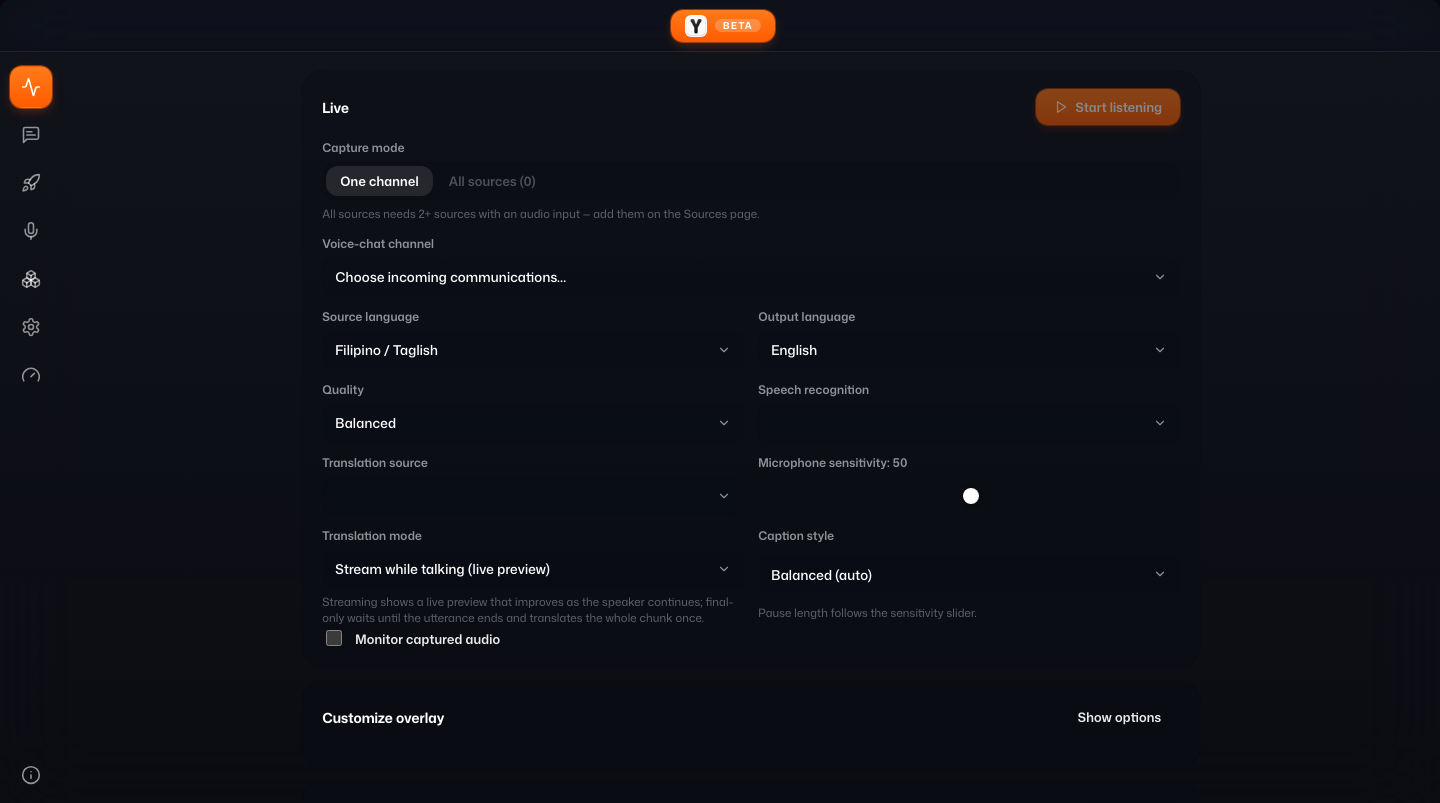
Test: control window › keeps clip inference honestly labeled in browser demo mode
Click the button named "Settings" at [30, 327], box [10,306,52,348]
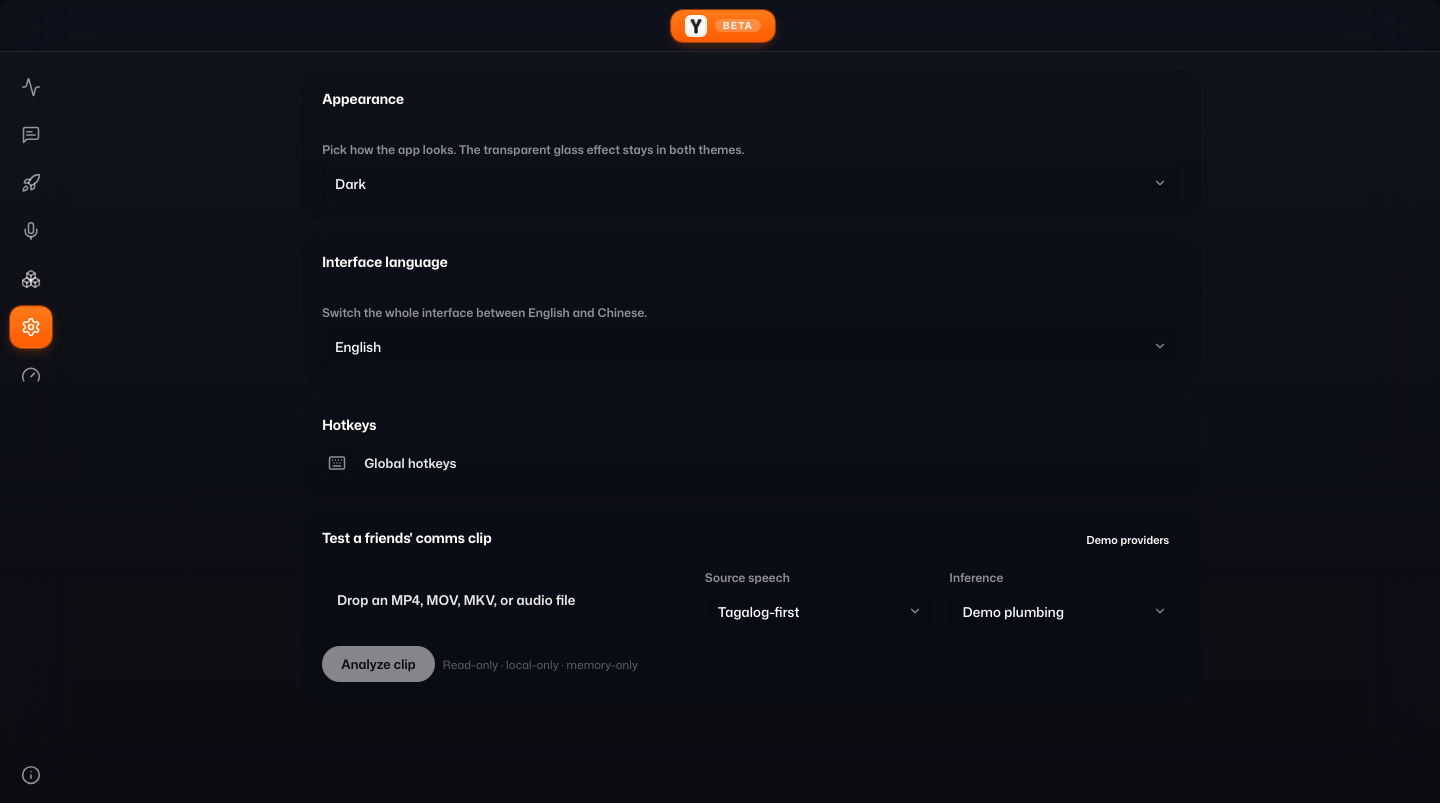
Click the button "Drop an MP4, MOV, MKV, or audio file" at [506, 599], box [322,568,691,630]
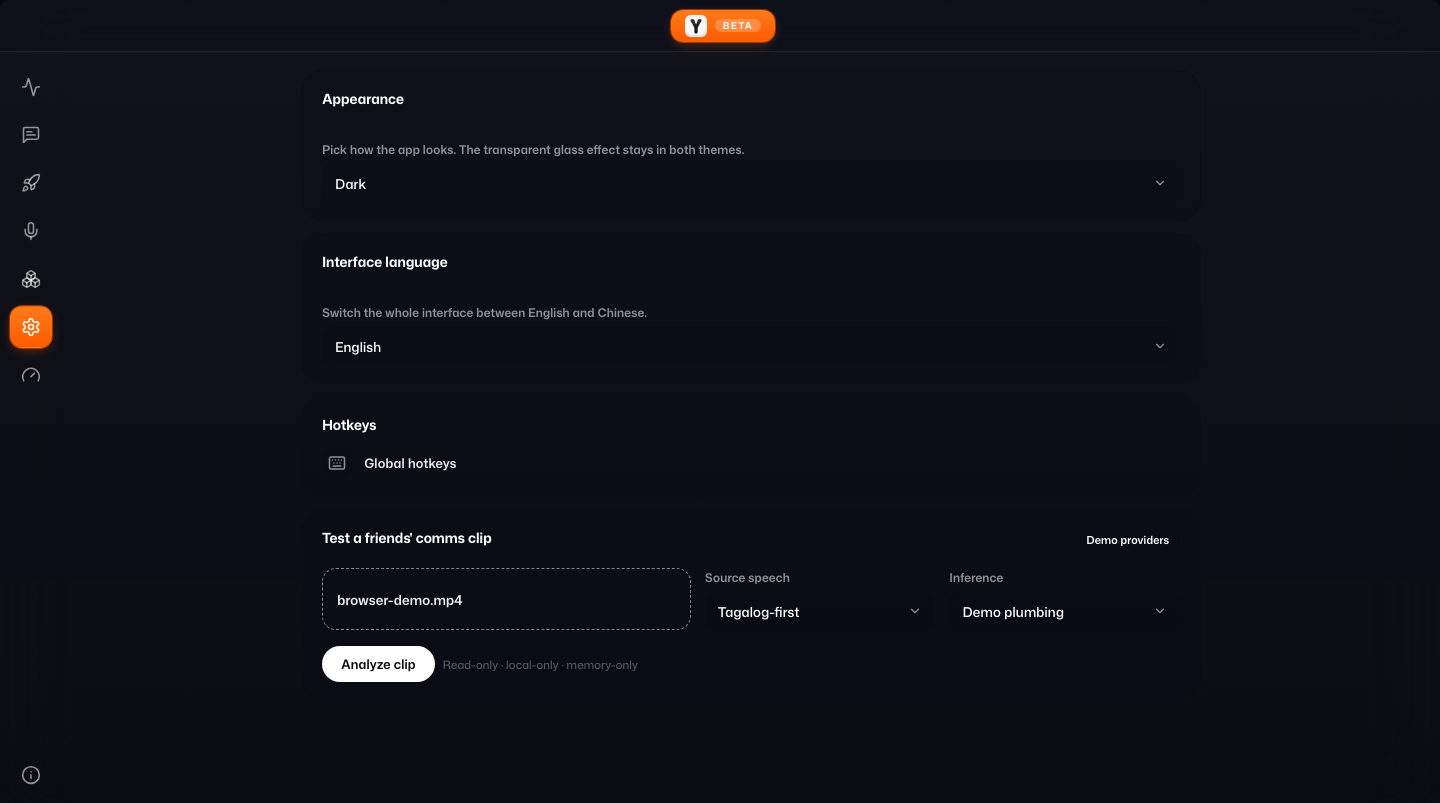
Click the button "Analyze clip" at [378, 664], box [322,646,435,682]
(page scrolled)
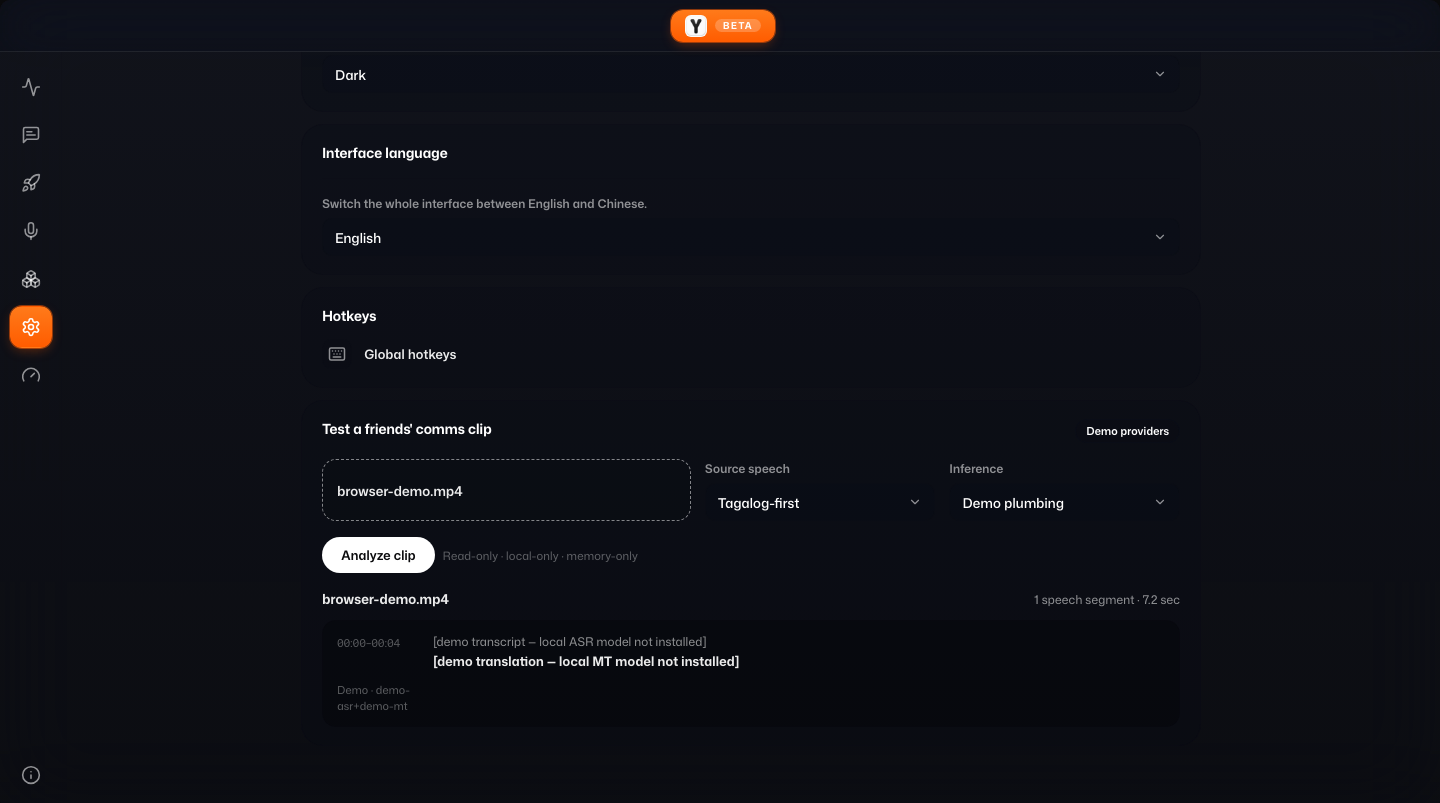
Expected: the text "[demo translation — local MT model not installed]" is shown, [433,652,739,670]
Expected: the text "Demo · demo-asr+demo-mt" is shown, [337,682,421,714]
